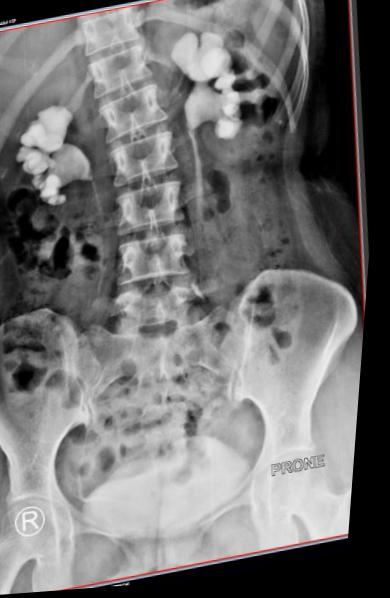bladder: (73, 426, 284, 569)
left kidney: (149, 2, 287, 163)
right kidney: (0, 81, 113, 223)
vertebrae: (94, 76, 182, 139)
